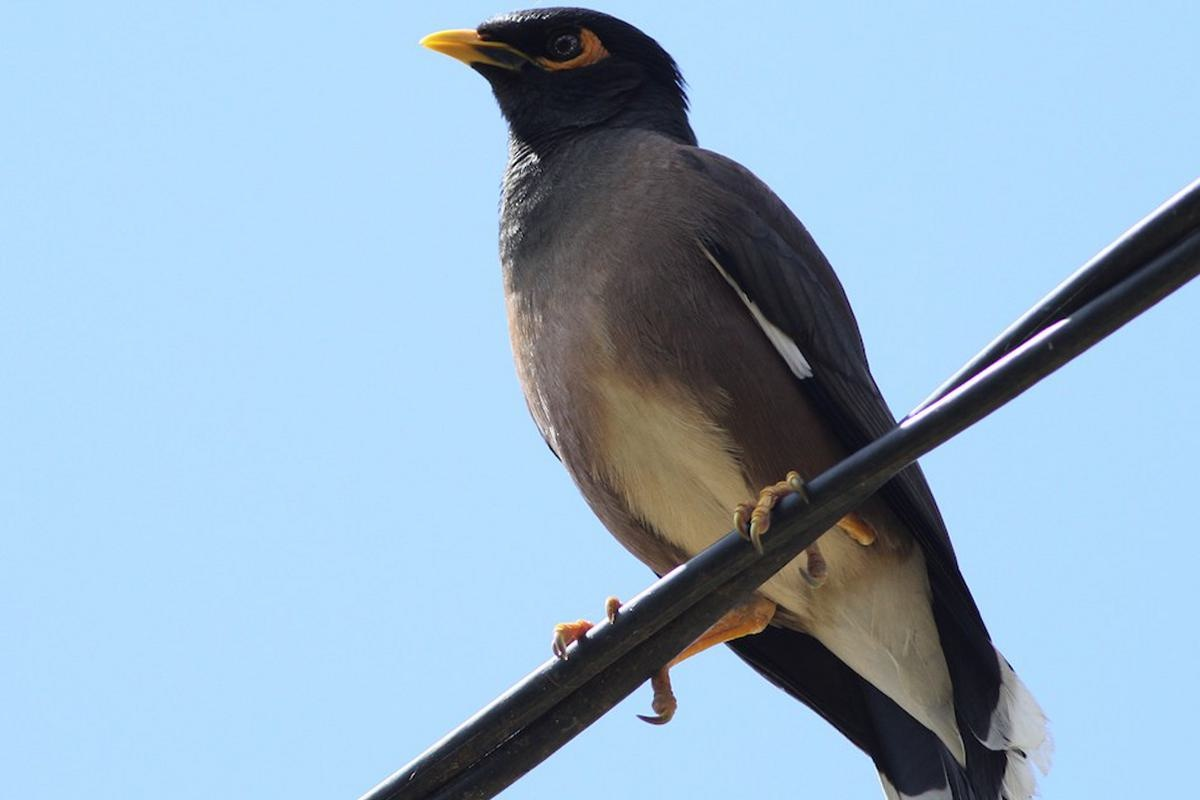myna: (429, 16, 974, 720)
